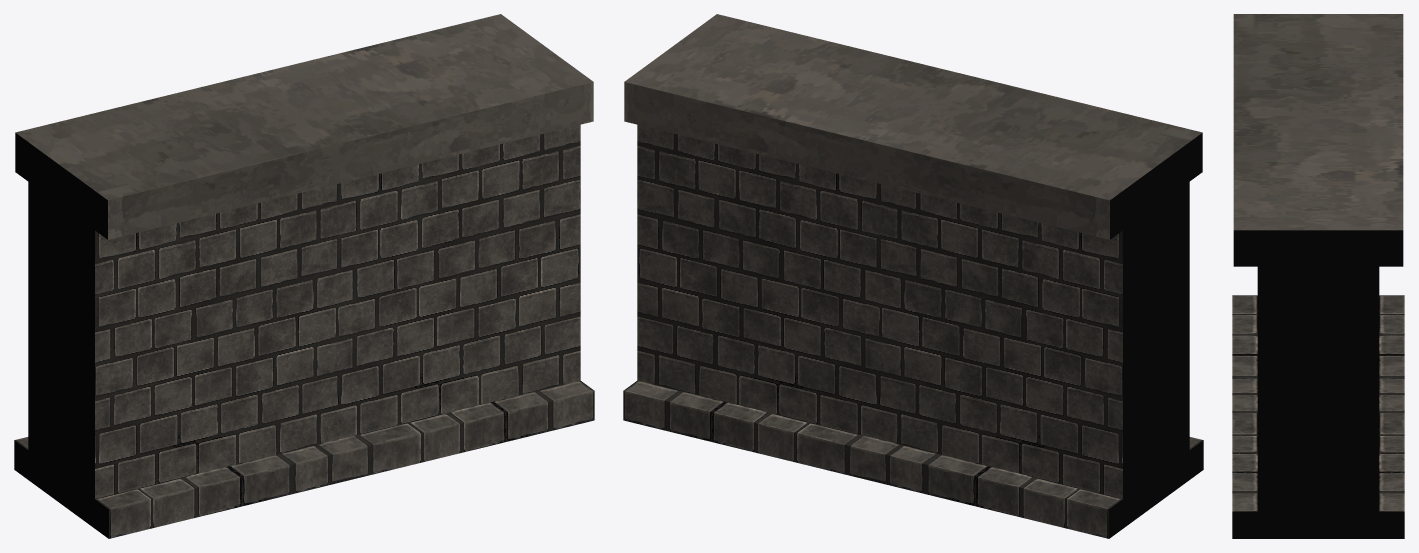
File: DoubleSidedWall01.fbx
3 views of the same model, side by side, from view 1: azimuth 30°, elevation 25°; view 2: azimuth 150°, elevation 25°; view 3: azimuth 270°, elevation 25° (orthographic). The views are drawn at different scales.
Parts seen in each view (by area): view 1: Plane; view 2: Plane; view 3: Plane.
Boxes of the visible parts, x1,y1,x2,y2 form: Plane: (14, 14, 594, 538); Plane: (623, 14, 1203, 538); Plane: (1232, 14, 1404, 538).
Bounding box in the file's own units: 3.01 × 2 × 1.01.
Materials: 1 (1 with a texture image).
